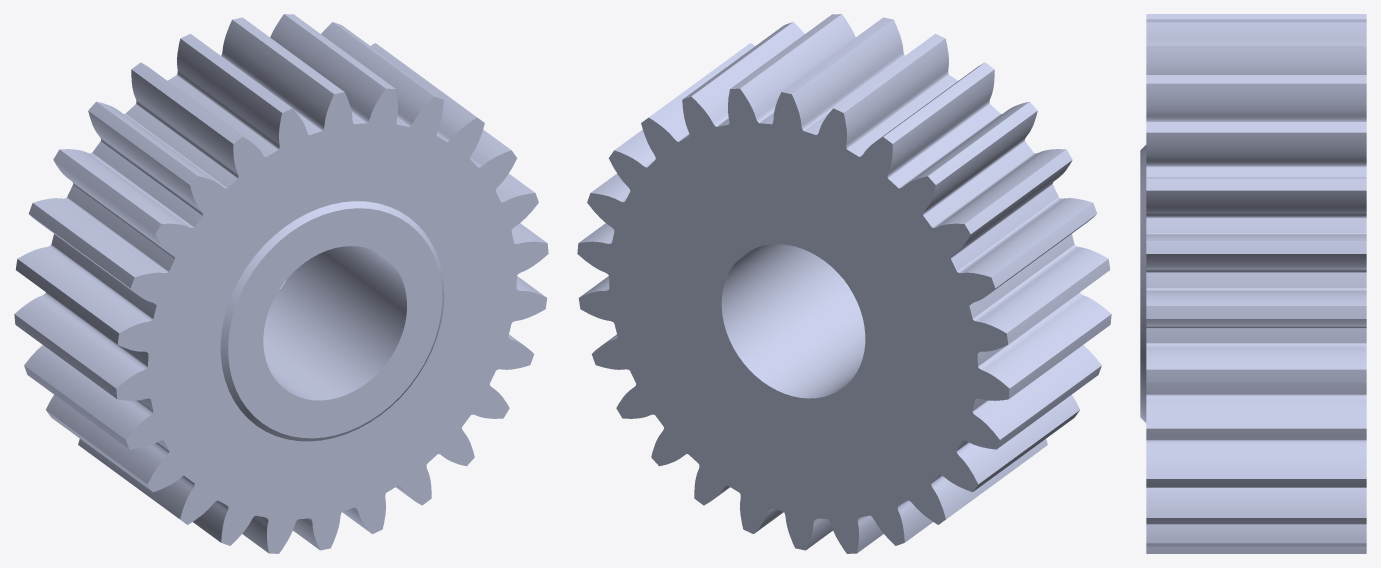
The model's file is REV_21_2103_P05_4_solid1.obj.
3 renders of one model, left to right at view 1: azimuth 30°, elevation 25°; view 2: azimuth 150°, elevation 25°; view 3: azimuth 270°, elevation 25°, orthographic. The views are drawn at different scales.
Parts seen in each view (by area): view 1: mesh25494, mesh25491, mesh25493, mesh25526, mesh25570, mesh25537, mesh25529, mesh25523, mesh25573, mesh25534, mesh25541, mesh25520 (+28 smaller); view 2: mesh25495, mesh25493, mesh25526, mesh25570, mesh25537, mesh25529, mesh25523, mesh25573, mesh25534, mesh25541, mesh25492, mesh25520 (+25 smaller); view 3: mesh25549, mesh25556, mesh25559, mesh25552, mesh25546, mesh25565, mesh25571, mesh25555, mesh25504, mesh25562, mesh25568, mesh25564 (+24 smaller).
Part boxes in pixels (x1,y1,x2,y2): mesh25494: (116,88,548,553); mesh25491: (228,208,442,438); mesh25493: (263,254,406,400); mesh25526: (15,292,147,388); mesh25570: (221,20,333,130); mesh25537: (176,39,282,149); mesh25529: (17,244,152,333); mesh25523: (24,345,153,439); mesh25573: (270,14,385,123); mesh25534: (131,69,238,178); mesh25541: (33,197,168,277); mesh25520: (46,394,169,484); mesh25495: (577,88,1009,553); mesh25493: (722,252,865,398); mesh25526: (978,292,1110,388); mesh25570: (792,20,904,130); mesh25537: (843,39,949,149); mesh25529: (973,244,1108,333); mesh25523: (972,345,1101,439); mesh25573: (740,14,855,123); mesh25534: (887,69,994,178); mesh25541: (957,197,1092,277); mesh25492: (721,244,808,315); mesh25520: (956,394,1079,484); mesh25549: (1146,439,1366,478); mesh25556: (1146,83,1366,121); mesh25559: (1146,132,1366,167); mesh25552: (1146,394,1366,428); mesh25546: (1146,487,1366,517); mesh25565: (1146,190,1366,218); mesh25571: (1146,46,1366,74); mesh25555: (1146,343,1366,369); mesh25504: (1146,524,1366,543); mesh25562: (1146,254,1366,272); mesh25568: (1146,22,1366,40); mesh25564: (1146,288,1366,305).
Size of the model in its own units: 0.0182 by 0.0182 by 0.00762.
